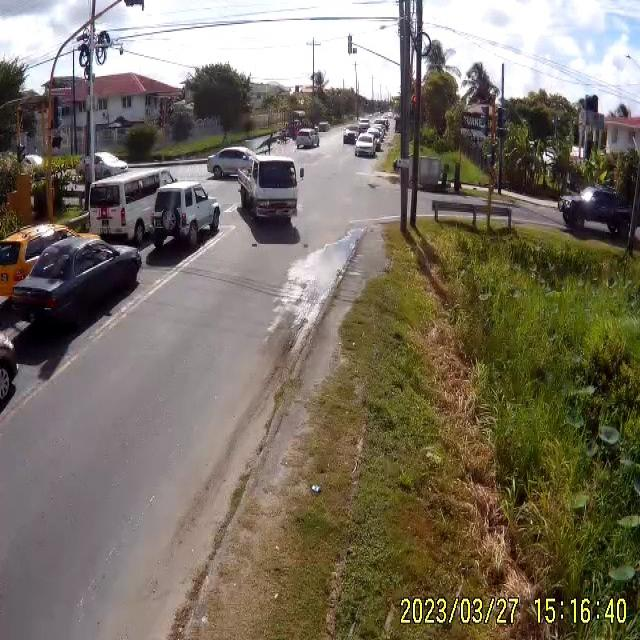car: (2, 234, 142, 338), (88, 167, 186, 245), (0, 222, 78, 301), (153, 181, 222, 245), (563, 188, 631, 236), (207, 148, 258, 182), (357, 133, 378, 156), (295, 130, 319, 150), (343, 129, 357, 144), (315, 122, 329, 132)
truck: (240, 158, 302, 222)
